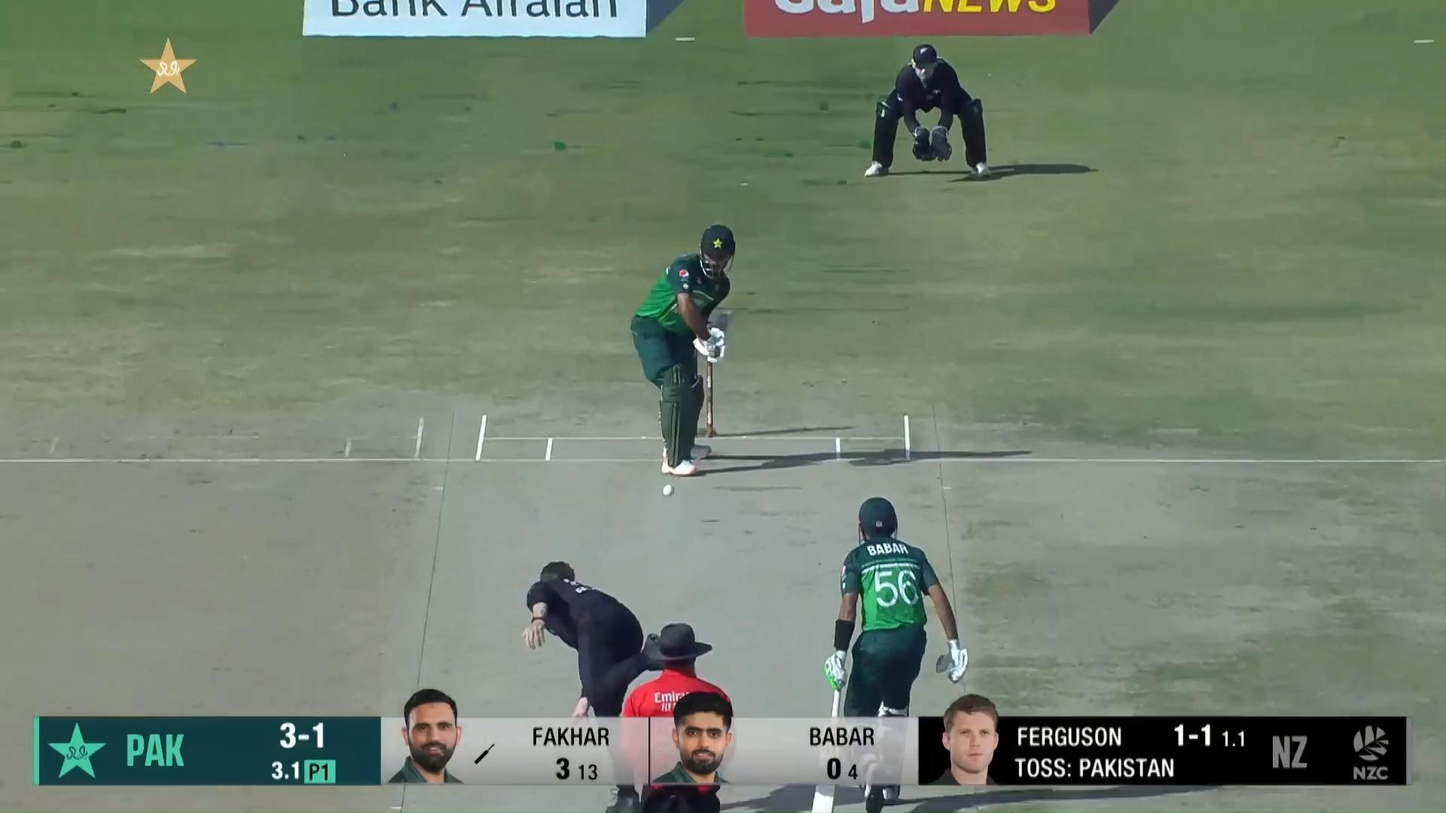BM 1: (631, 225, 737, 477)
BO: (525, 559, 667, 718)
